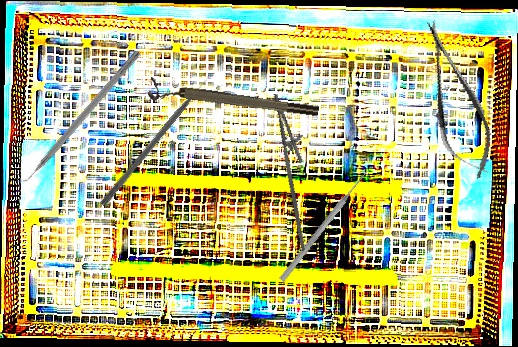Chopper: (9, 43, 142, 192)
Fixation Ring: (147, 76, 320, 127)
Micro Scissor: (409, 13, 503, 186)
Needle Holder: (255, 89, 335, 252)
Pusher: (99, 75, 213, 208), (278, 167, 371, 284)
